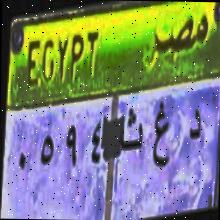0: (17, 144, 28, 182)
4: (88, 115, 104, 170)
5: (37, 134, 56, 170)
9: (65, 122, 80, 176)
daal: (184, 102, 203, 154)
ghayn: (149, 97, 172, 176)
thaa: (117, 108, 146, 154)
